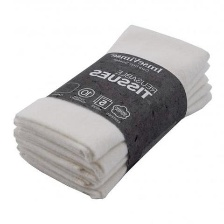tissue: (8, 16, 218, 203)
